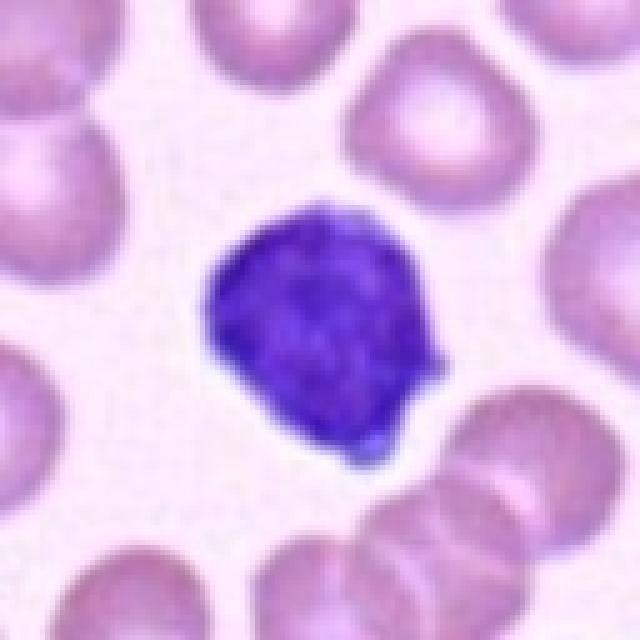lympho: (189, 197, 454, 468)
